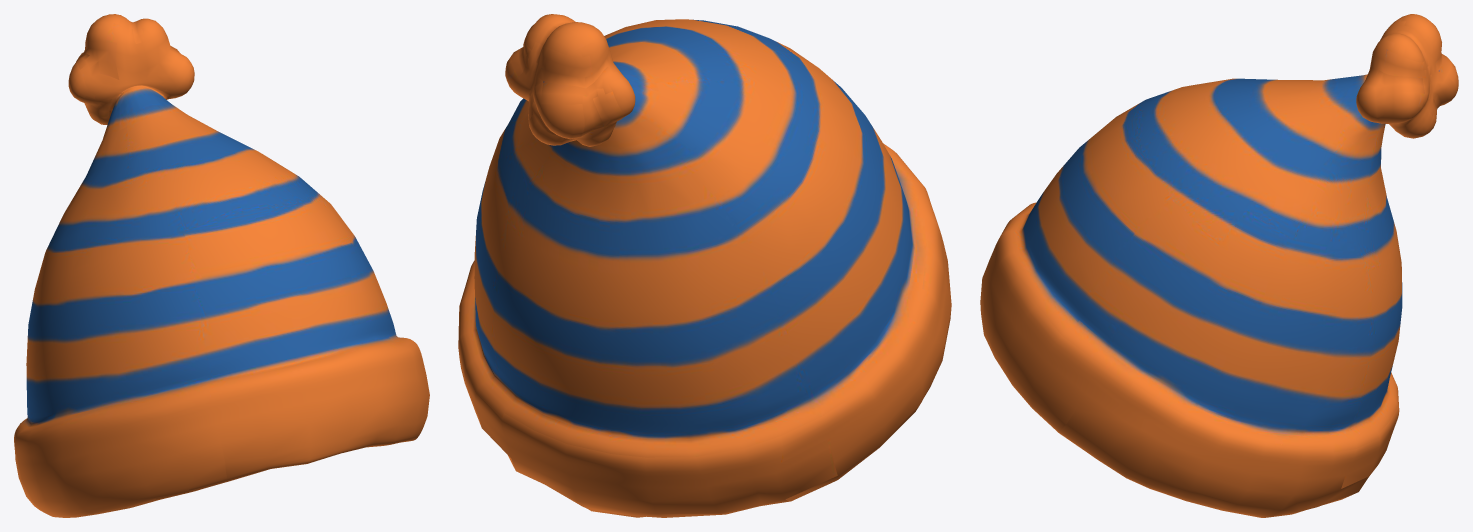
The model's file is Beanie-Orange-v2.glb.
The picture shows the model from 3 angles, left to right: view 1: azimuth 30°, elevation 25°; view 2: azimuth 150°, elevation 25°; view 3: azimuth 270°, elevation 25°; orthographic projection. The views are drawn at different scales.
Parts seen in each view (by area): view 1: Beanie-Orange-v2; view 2: Beanie-Orange-v2; view 3: Beanie-Orange-v2.
Boxes of the visible parts, <box> form: Beanie-Orange-v2: <box>14,14,429,517</box>; Beanie-Orange-v2: <box>458,14,951,517</box>; Beanie-Orange-v2: <box>980,14,1458,517</box>.
Size of the model in its own units: 0.5017 by 0.5689 by 0.54.
1 material, 1 textured.
